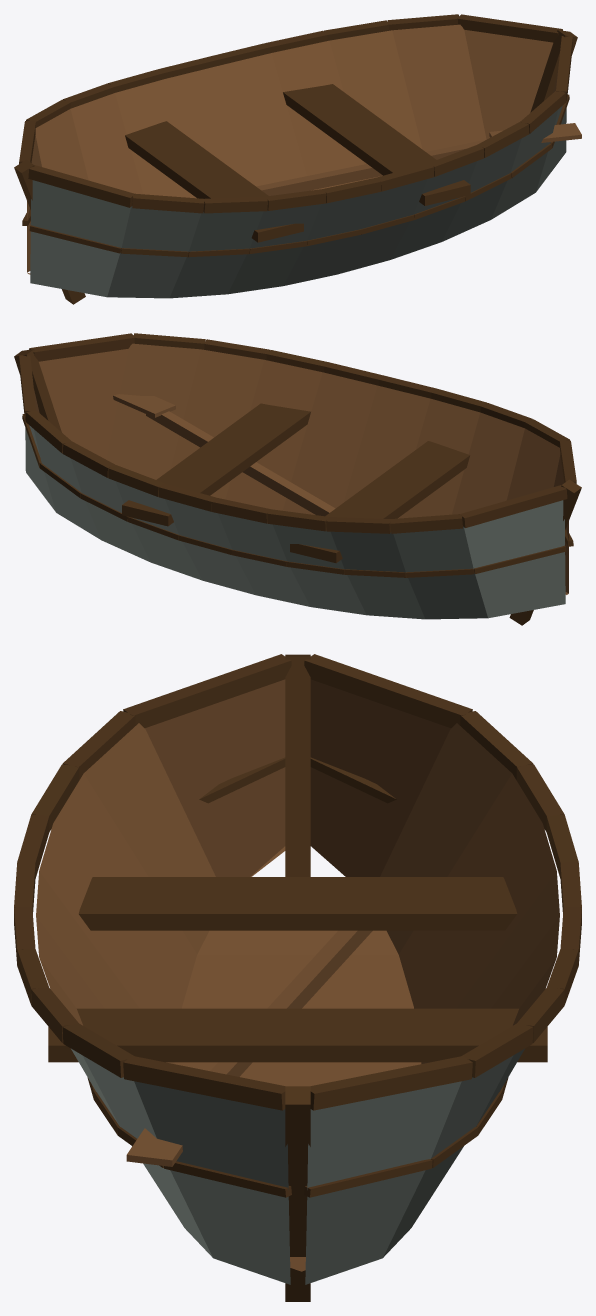
The model's file is dory.glb.
The picture shows the model from 3 angles, top to bottom: view 1: azimuth 30°, elevation 25°; view 2: azimuth 150°, elevation 25°; view 3: azimuth 270°, elevation 25°; orthographic projection. The views are drawn at different scales.
Visible parts, largest first — view 1: dory; view 2: dory; view 3: dory.
Part boxes in pixels (x1,y1,x2,y2): dory: [14, 14, 581, 304]; dory: [14, 333, 581, 625]; dory: [14, 654, 581, 1301].
Size of the model in its own units: 2.91 by 0.7446 by 1.55.
